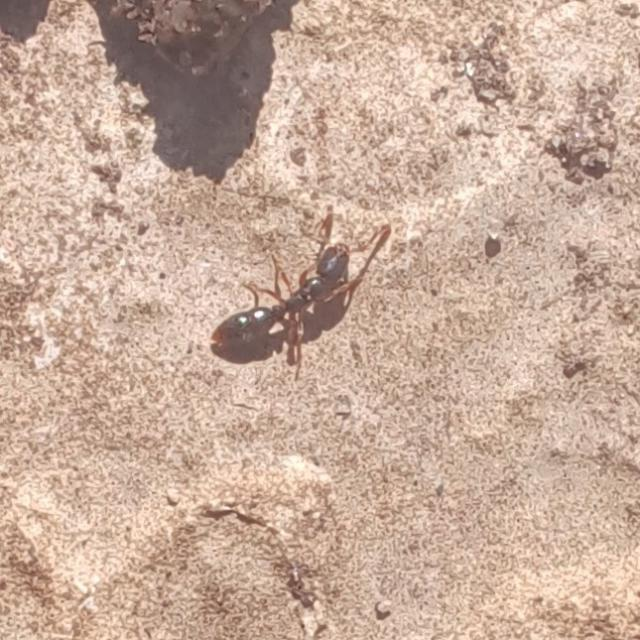Ponera: (211, 214, 377, 362)
